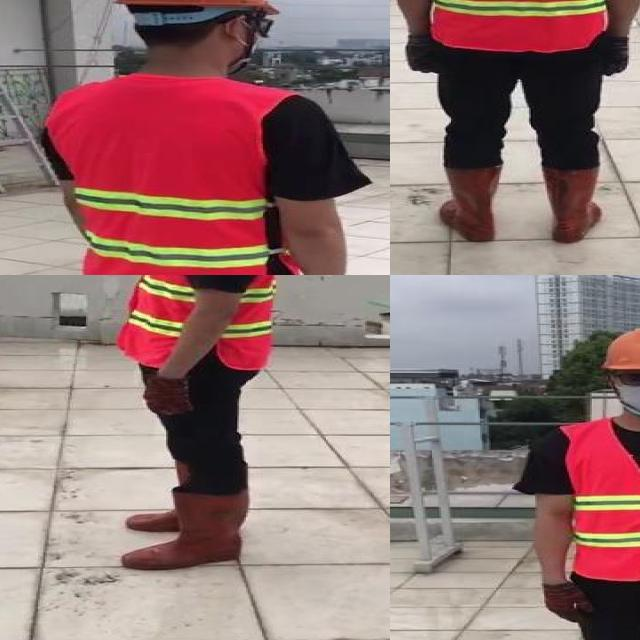boots: (123, 494, 248, 572), (118, 460, 218, 532), (437, 165, 504, 241), (542, 165, 604, 242)
face_mask: (615, 368, 640, 412)
glasses: (612, 369, 640, 390)
hand_glove: (546, 581, 596, 624), (143, 375, 193, 414), (403, 36, 437, 74), (606, 36, 630, 75)
head_helmet: (601, 324, 640, 370)
person: (46, 0, 373, 275), (89, 275, 297, 588), (390, 0, 640, 254), (521, 318, 640, 640)
vest: (48, 75, 302, 275), (561, 413, 640, 580), (415, 0, 623, 51), (120, 275, 214, 369), (214, 275, 271, 370)
